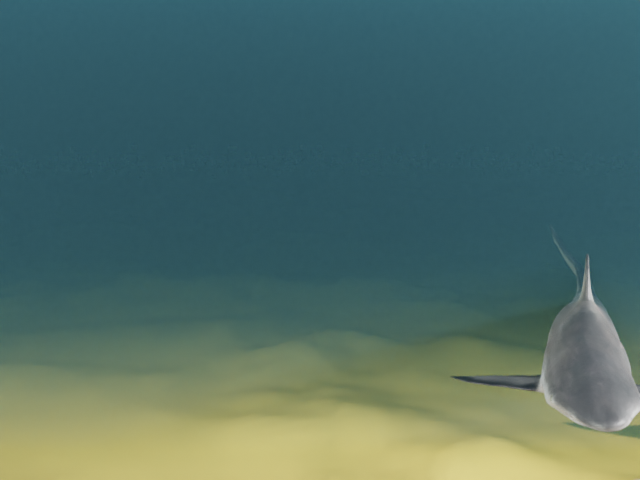Carribean Shark.001: (449, 224, 640, 431)
